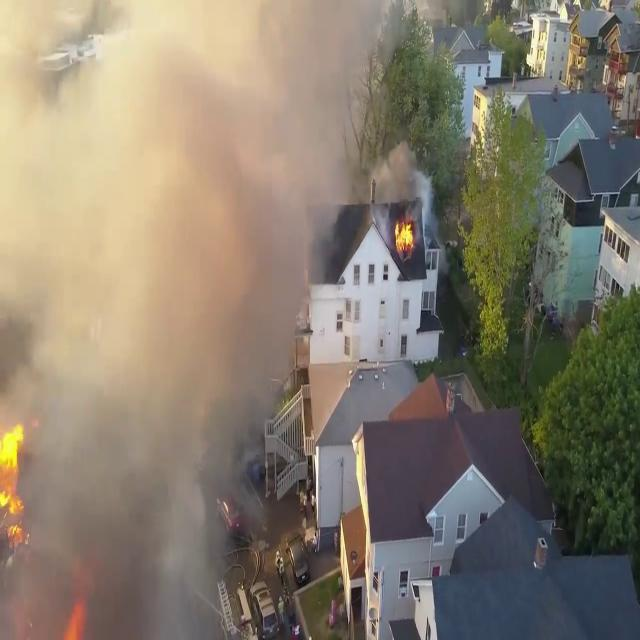Fire: (0, 412, 34, 543), (393, 213, 417, 256)
Smoke: (0, 0, 276, 621)
